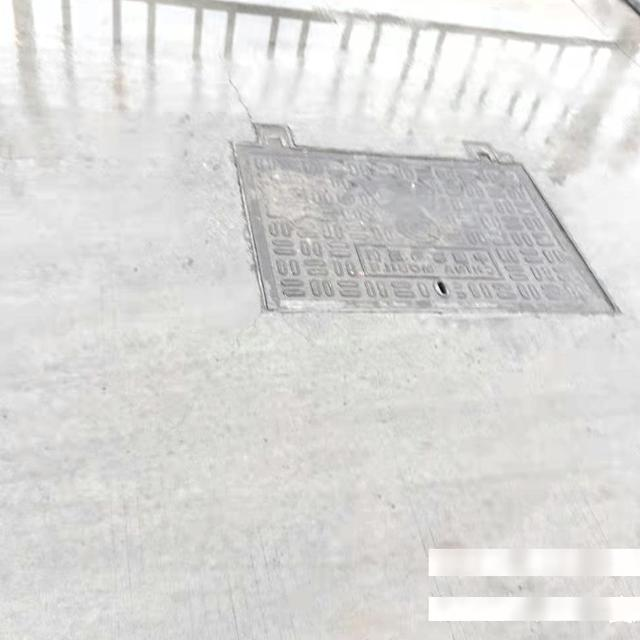good: (210, 131, 629, 327)
